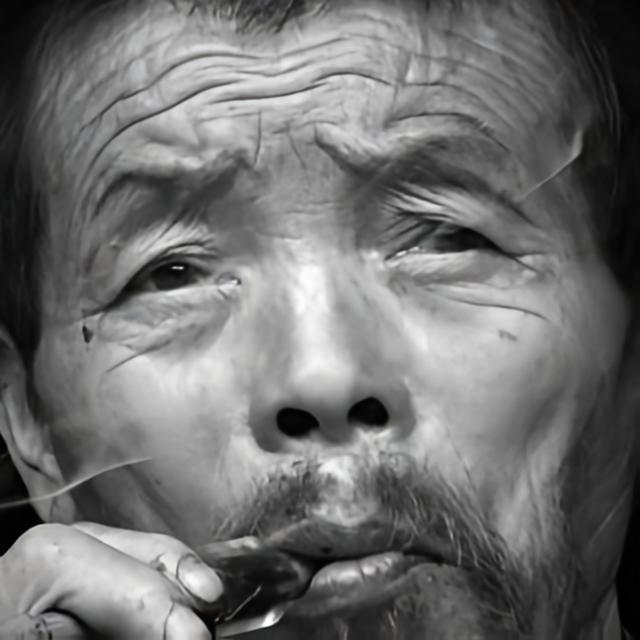sad: (32, 4, 640, 640)
